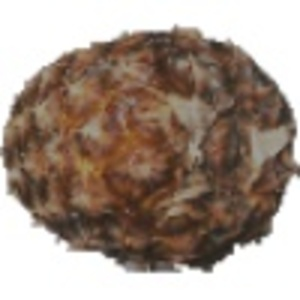abacaxi: (1, 21, 294, 264)
